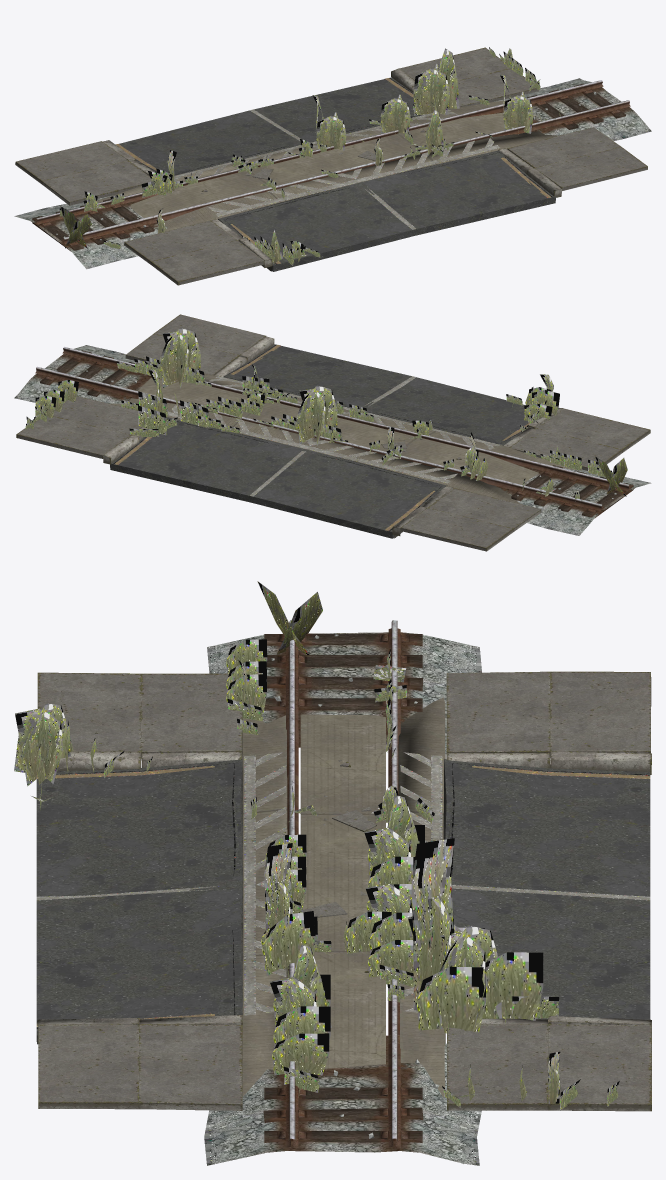
The model's file is road_9x15_railway.glb.
The picture shows the model from 3 angles, top to bottom: view 1: azimuth 30°, elevation 25°; view 2: azimuth 150°, elevation 25°; view 3: azimuth 270°, elevation 25°; orthographic projection. The views are drawn at different scales.
Visible parts, largest first — view 1: road_9x15_railway_LOD0, cracks_grass_c_temperate, cracks_grass_a_temperate (×2), cracks_grass_i_temperate (×2), cracks_grass_e_temperate, cracks_grass_b_temperate, shrub_sparse_temperate, cracks_grass_h_temperate; view 2: road_9x15_railway_LOD0, cracks_grass_a_temperate (×2), cracks_grass_c_temperate, cracks_grass_i_temperate (×2), cracks_grass_h_temperate (×3), cracks_grass_e_temperate, cracks_grass_b_temperate, shrub_sparse_temperate, cracks_grass_f_temperate; view 3: road_9x15_railway_LOD0, cracks_grass_c_temperate, cracks_grass_a_temperate (×2), cracks_grass_i_temperate (×2), cracks_grass_h_temperate (×3), cracks_grass_b_temperate, shrub_sparse_temperate, cracks_grass_e_temperate.
Part boxes in pixels (x1,y1,x2,y2): road_9x15_railway_LOD0: (14, 47, 651, 285); cracks_grass_c_temperate: (369, 48, 489, 125); cracks_grass_a_temperate (×2): (288, 74, 560, 157); cracks_grass_i_temperate (×2): (242, 94, 427, 265); cracks_grass_e_temperate: (59, 139, 326, 216); cracks_grass_b_temperate: (404, 110, 454, 159); shrub_sparse_temperate: (60, 206, 91, 248); cracks_grass_h_temperate: (489, 47, 540, 91); road_9x15_railway_LOD0: (14, 314, 651, 551); cracks_grass_a_temperate (×2): (116, 328, 348, 445); cracks_grass_c_temperate: (121, 369, 240, 437); cracks_grass_i_temperate (×2): (187, 374, 559, 432); cracks_grass_h_temperate (×3): (25, 379, 612, 477); cracks_grass_e_temperate: (314, 425, 579, 501); cracks_grass_b_temperate: (242, 364, 289, 403); shrub_sparse_temperate: (595, 456, 627, 496); cracks_grass_f_temperate: (381, 419, 432, 465); road_9x15_railway_LOD0: (36, 620, 651, 1165); cracks_grass_c_temperate: (407, 838, 559, 1051); cracks_grass_a_temperate (×2): (269, 795, 424, 1097); cracks_grass_i_temperate (×2): (14, 703, 413, 1002); cracks_grass_h_temperate (×3): (226, 639, 619, 1110); cracks_grass_b_temperate: (261, 843, 317, 978); shrub_sparse_temperate: (257, 581, 322, 654); cracks_grass_e_temperate: (371, 649, 406, 822).
Size of the model in its own units: 18.05 by 3.34 by 9.36.
6 materials, 6 textured.
